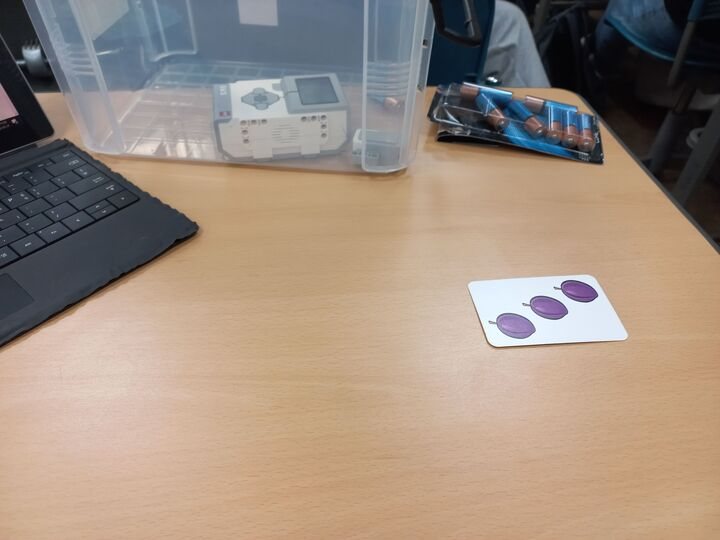plum3: (466, 272, 632, 349)
